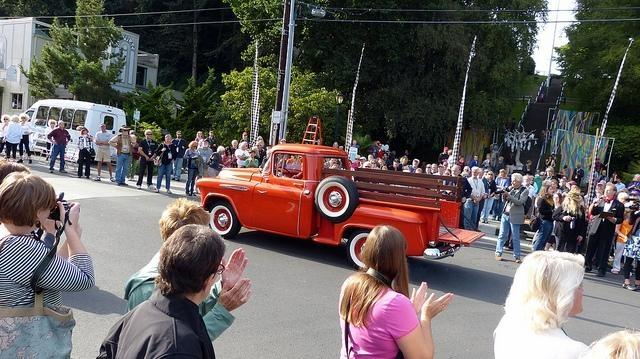truck: (195, 142, 482, 271), (1, 99, 126, 165)
